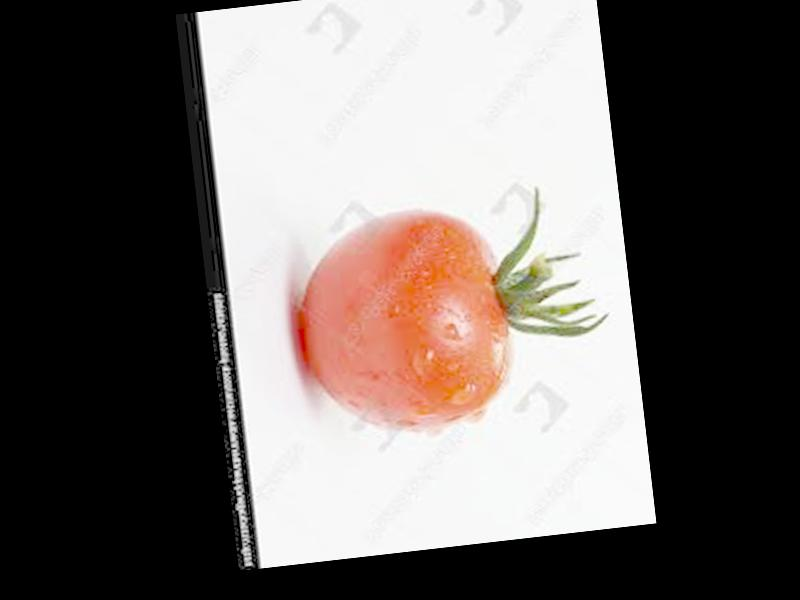Tomato: (286, 200, 517, 438)
